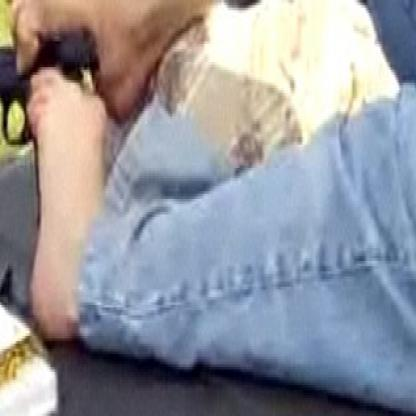gun: (0, 23, 100, 228)
